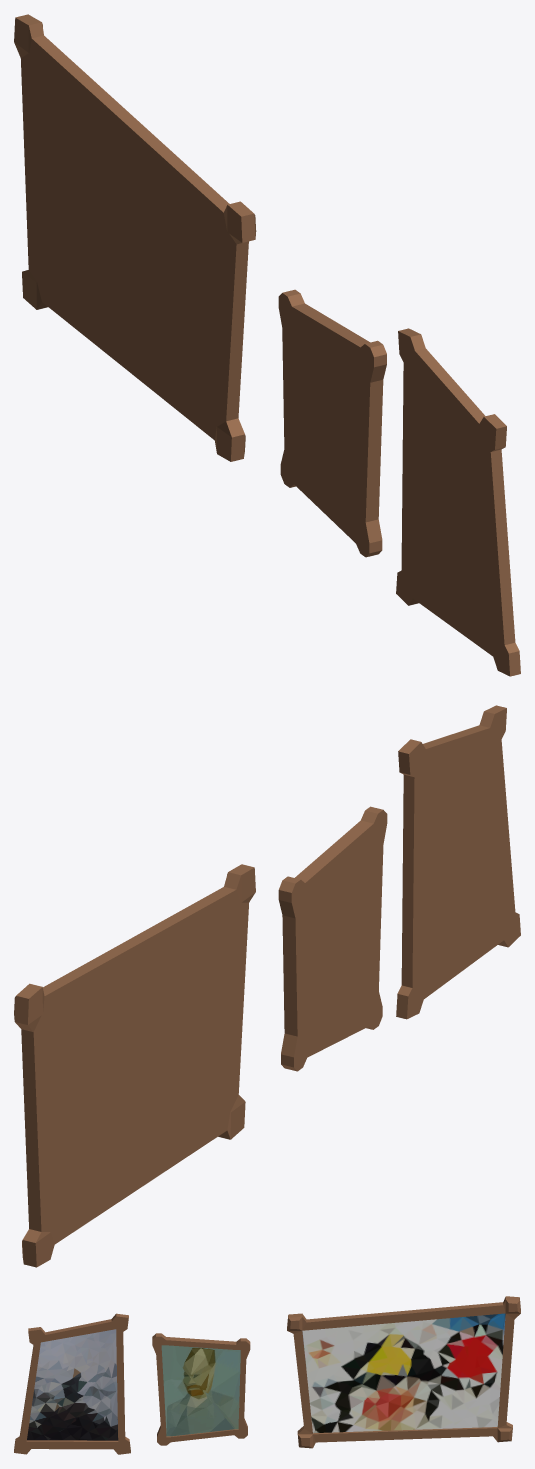
Rendered from Marcos1.fbx.
3 renders of one model, top to bottom at view 1: azimuth 30°, elevation 25°; view 2: azimuth 150°, elevation 25°; view 3: azimuth 270°, elevation 25°, orthographic. The views are drawn at different scales.
Visible parts, largest first — view 1: Cube.005, Cube.003, Cube.004; view 2: Cube.005, Cube.003, Cube.004; view 3: Cube.005, Cube.003, Cube.004.
Boxes of the visible parts, x1,y1,x2,y2 form: Cube.005: (14, 14, 256, 461); Cube.003: (396, 328, 520, 676); Cube.004: (278, 289, 386, 557); Cube.005: (14, 864, 255, 1267); Cube.003: (396, 705, 520, 1019); Cube.004: (278, 806, 387, 1071); Cube.005: (287, 1296, 520, 1448); Cube.003: (14, 1313, 130, 1454); Cube.004: (152, 1333, 250, 1445).
Bounding box in the file's own units: 5.15 × 86.62 × 256.
